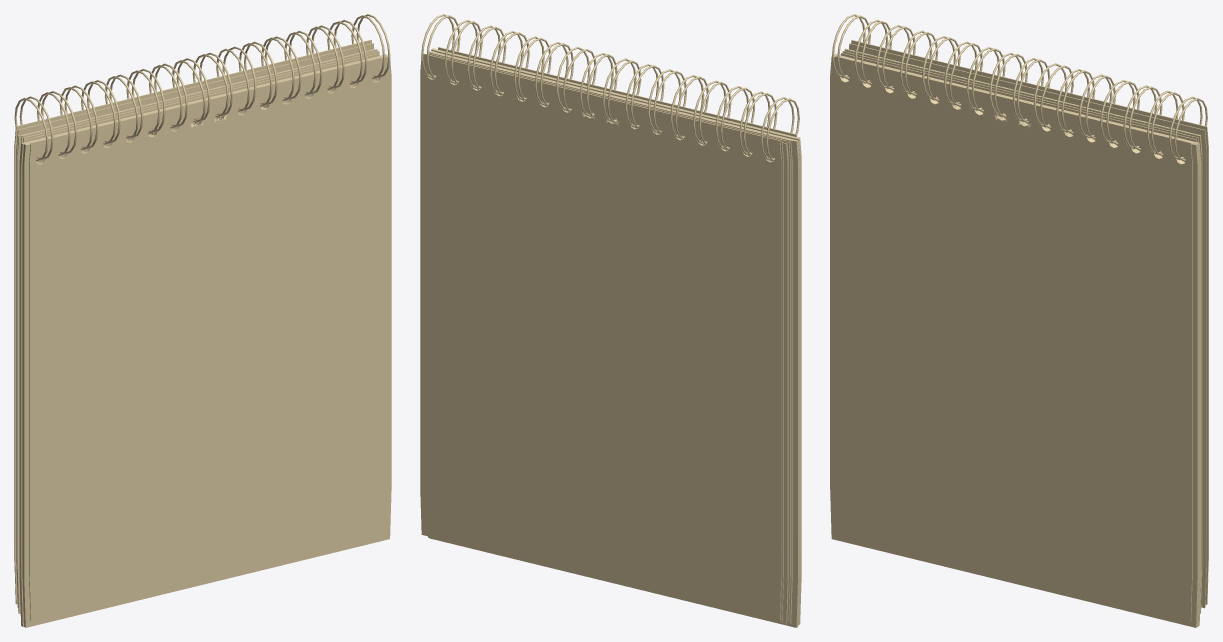
Rendered from note.glb.
3 views of the same model, side by side, from view 1: azimuth 30°, elevation 25°; view 2: azimuth 150°, elevation 25°; view 3: azimuth 330°, elevation 25° (orthographic).
Parts seen in each view (by area): view 1: Plane001; view 2: Plane001; view 3: Plane001.
Boxes of the visible parts, x1=… form: Plane001: x1=14, y1=14, x2=391, y2=627; Plane001: x1=420, y1=14, x2=801, y2=627; Plane001: x1=830, y1=14, x2=1208, y2=627.
Bounding box in the file's own units: 40.03 × 54.27 × 6.18.
